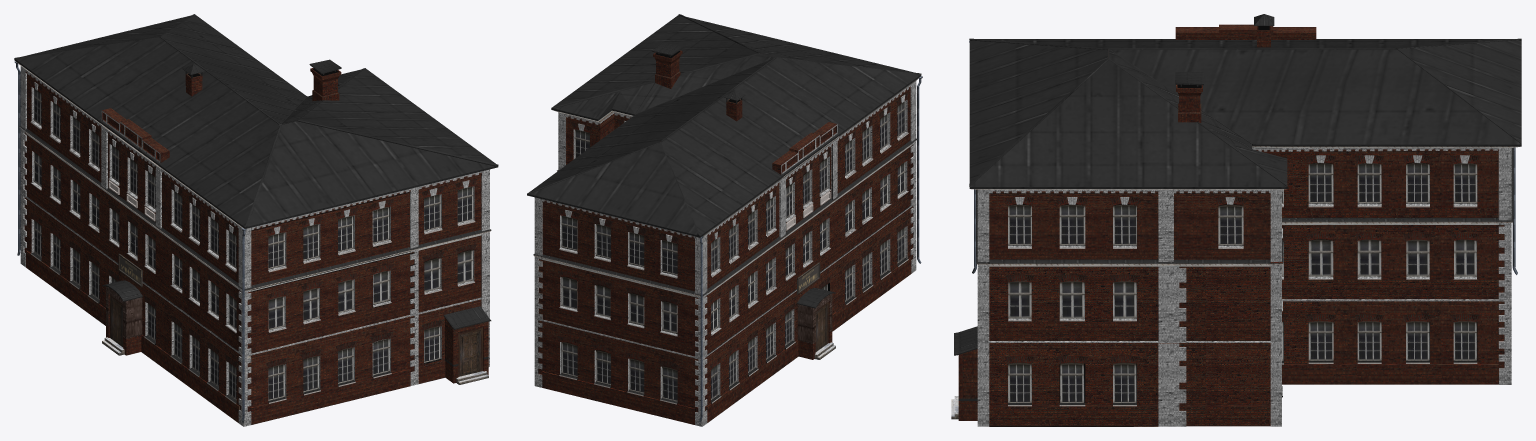
File: Serpuhoff two classed primary school.fbx
3 views of the same model, side by side, from view 1: azimuth 30°, elevation 25°; view 2: azimuth 150°, elevation 25°; view 3: azimuth 270°, elevation 25° (orthographic). The views are drawn at different scales.
Parts seen in each view (by area): view 1: Box001; view 2: Box001; view 3: Box001.
Boxes of the visible parts, left/top/right/bottom form: Box001: left=14, top=14, right=498, bottom=426; Box001: left=527, top=14, right=922, bottom=426; Box001: left=951, top=14, right=1521, bottom=426.
Bounding box in the file's own units: 15.53 × 14.11 × 23.59.
